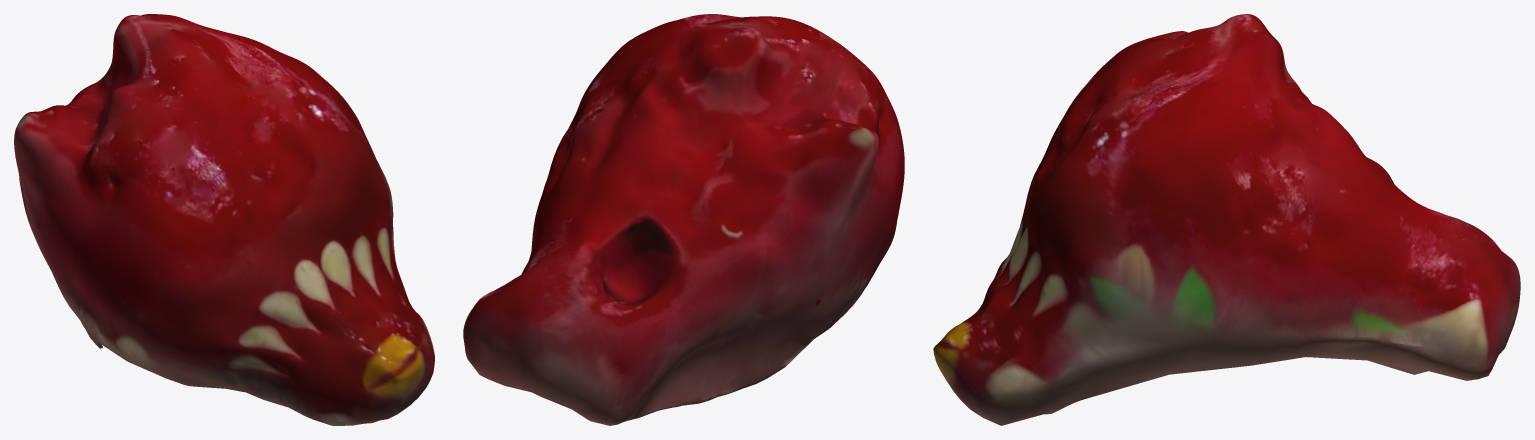
3 views of the same model, side by side, from view 1: azimuth 30°, elevation 25°; view 2: azimuth 150°, elevation 25°; view 3: azimuth 270°, elevation 25° (orthographic).
Size of the model in its own units: 0.3928 by 0.4069 by 0.6148.
1 material, 1 textured.
